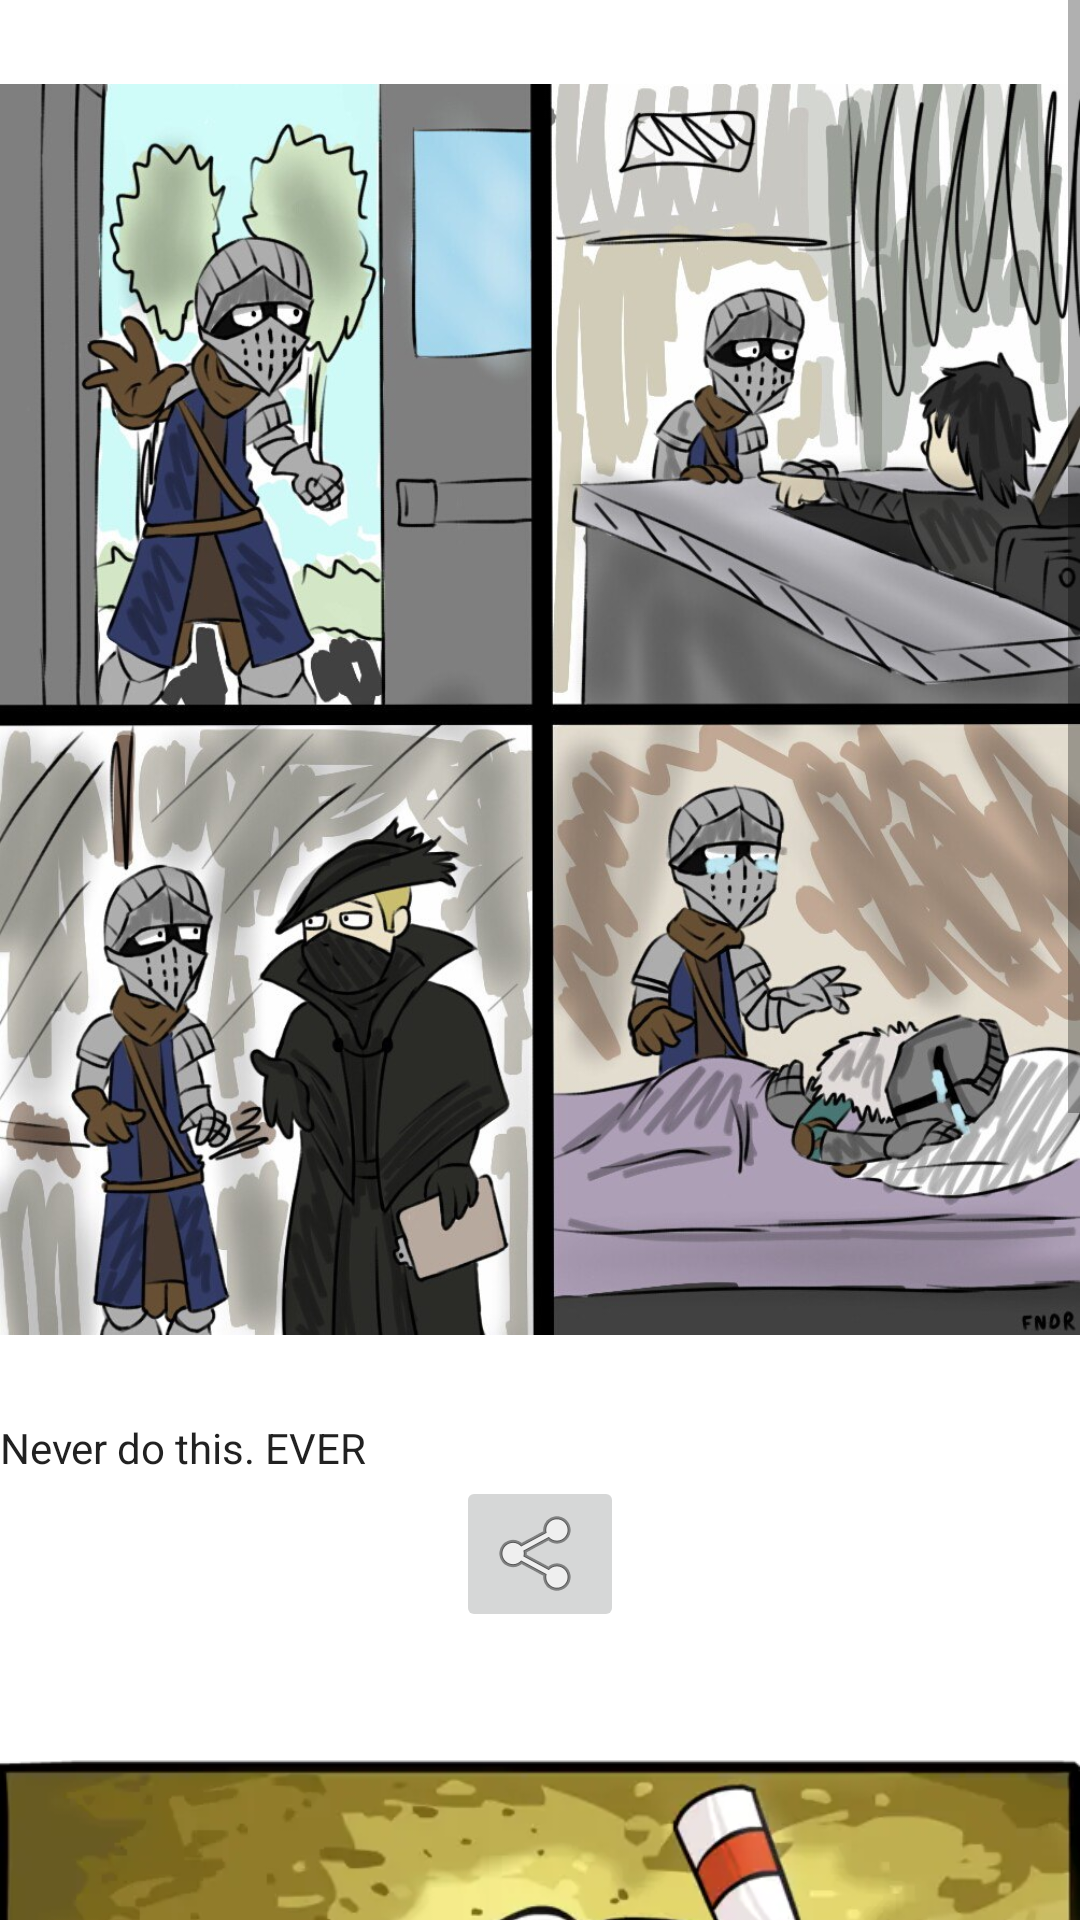

Point at icon controls on the screen. Image size 1080 x 1920, points as (x,y).
share: (540,1554)
